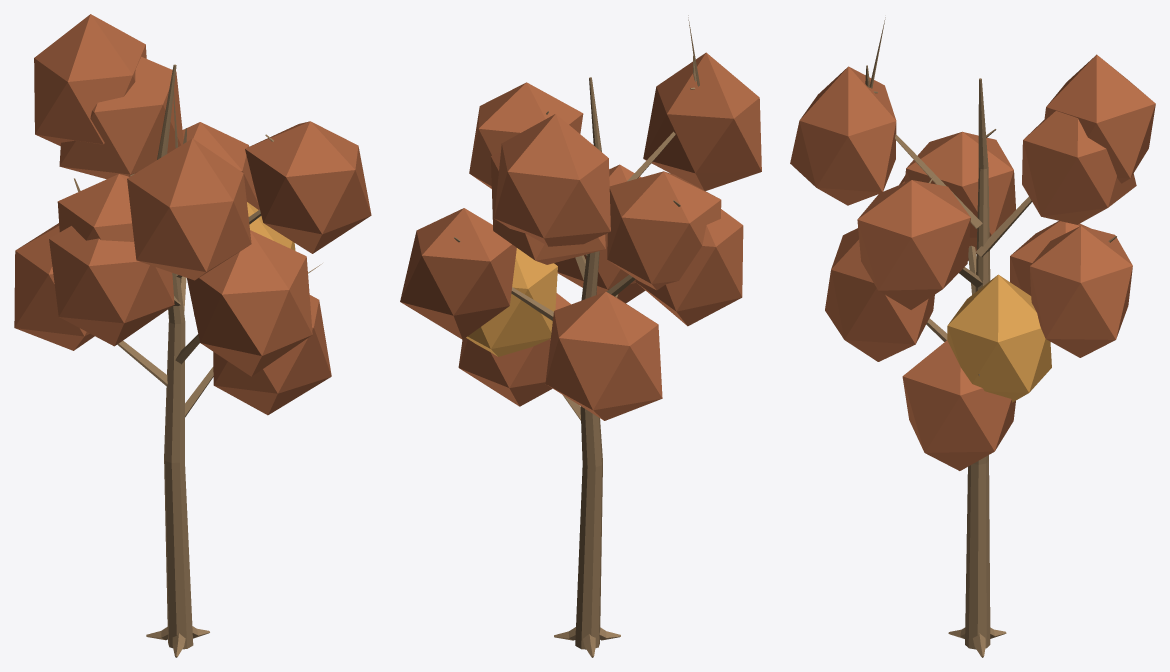
The model's file is oak_winter_light_02.glb.
3 views of the same model, side by side, from view 1: azimuth 30°, elevation 25°; view 2: azimuth 150°, elevation 25°; view 3: azimuth 270°, elevation 25° (orthographic). The views are drawn at different scales.
Visible parts, largest first — view 1: Oak_winter_light_02; view 2: Oak_winter_light_02; view 3: Oak_winter_light_02.
Boxes of the visible parts, x1,y1,x2,y2 form: Oak_winter_light_02: (14, 14, 371, 657); Oak_winter_light_02: (400, 15, 761, 657); Oak_winter_light_02: (790, 17, 1155, 657).
Size of the model in its own units: 8.55 by 17.81 by 9.76.
